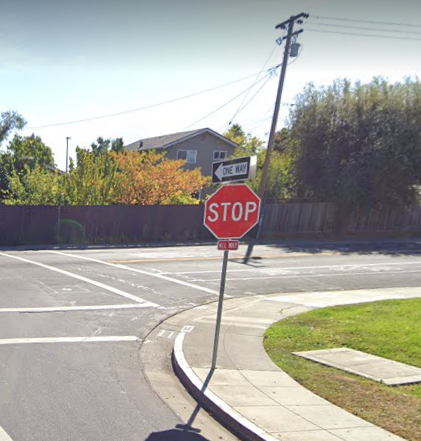stop_sign: (206, 184, 262, 239)
